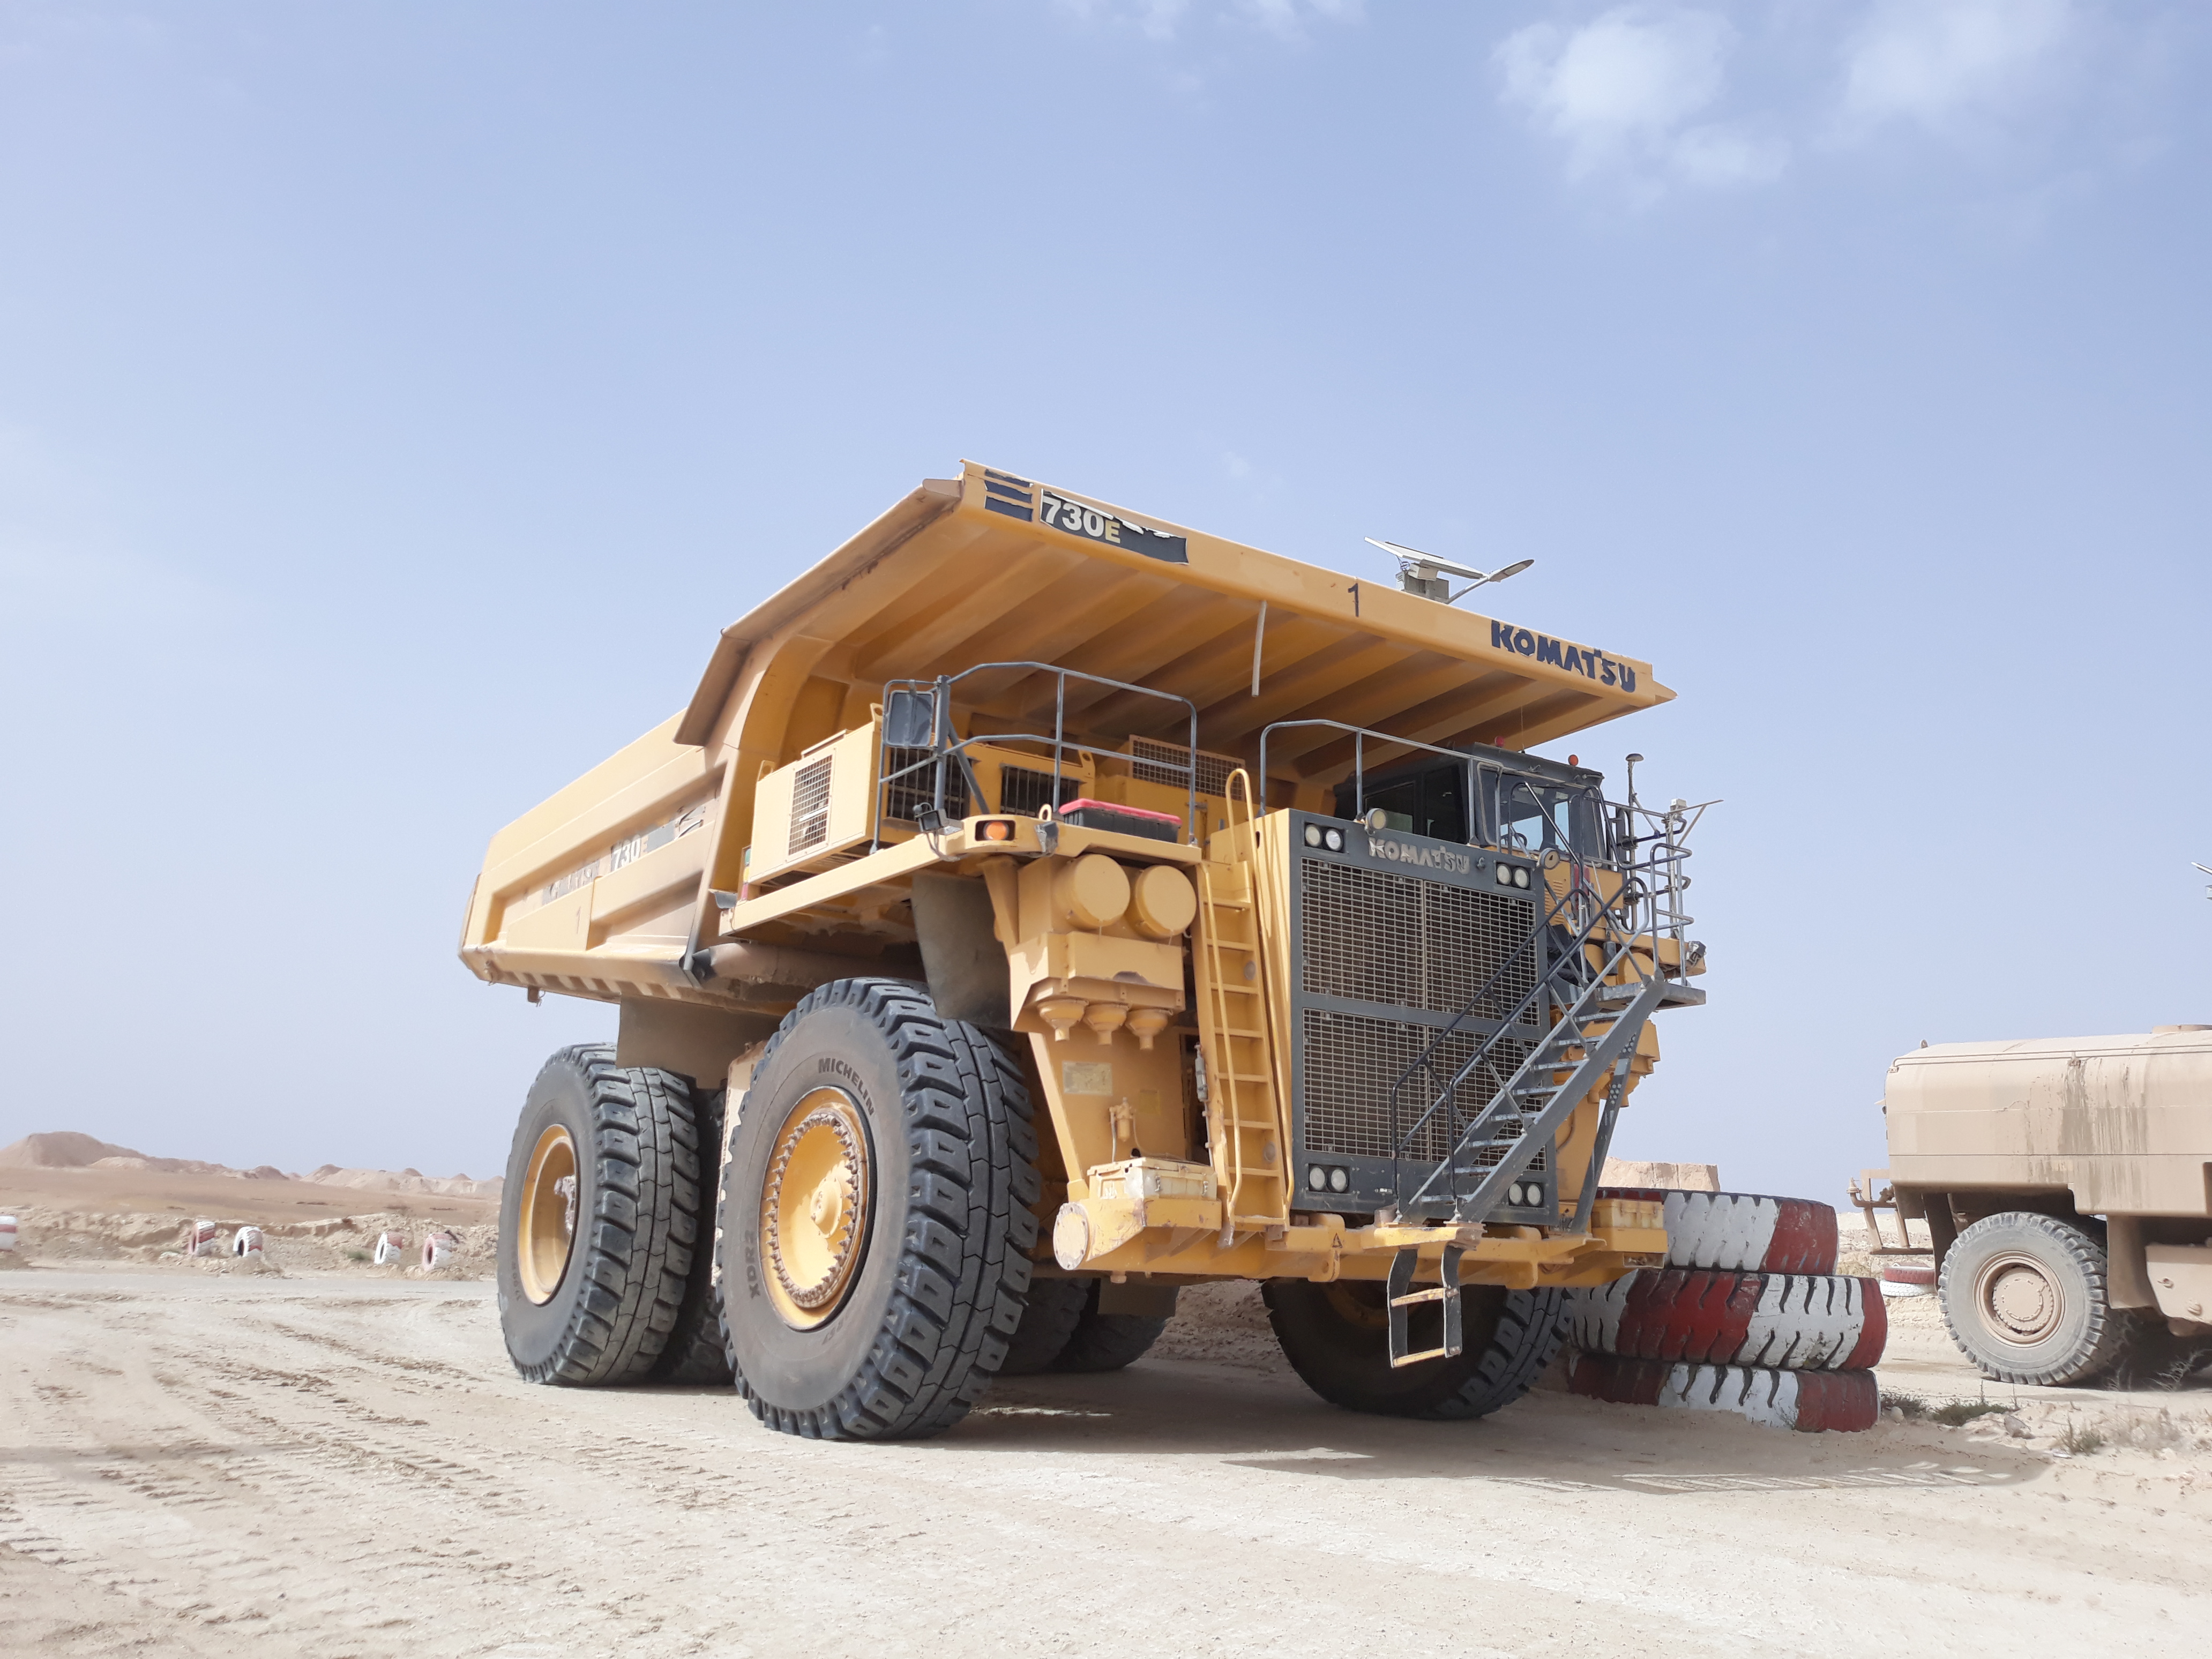camion: (451, 430, 1723, 1453)
